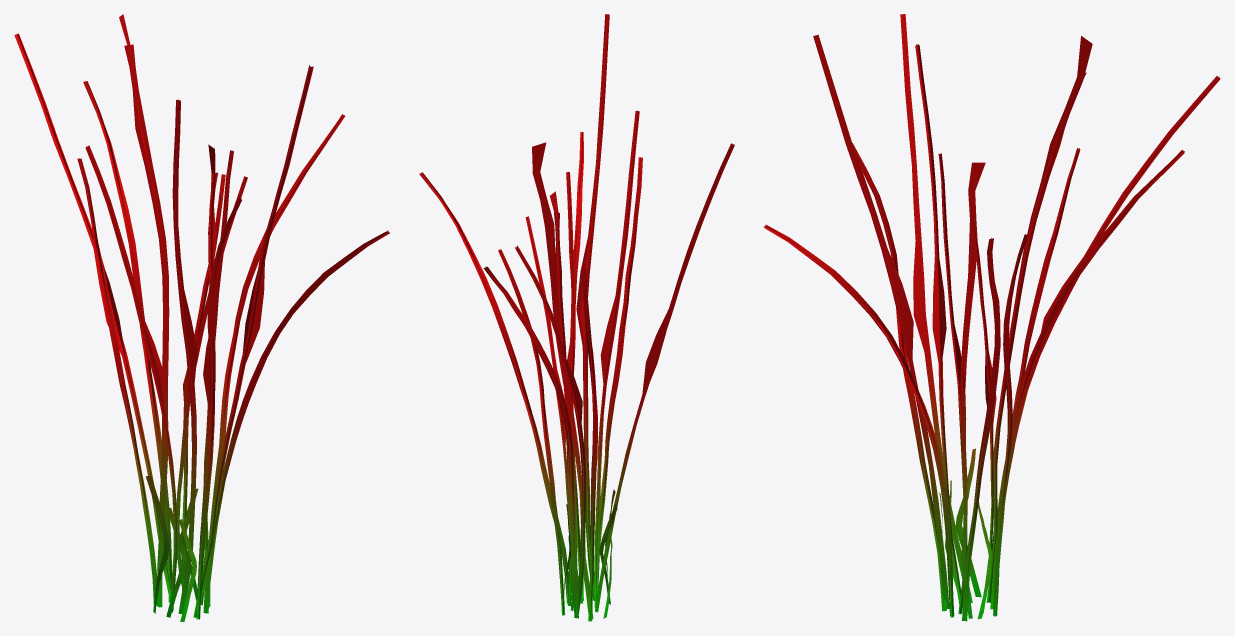
The model's file is smdrailr_Var3_LOD0.fbx.
The picture shows the model from 3 angles, left to right: view 1: azimuth 30°, elevation 25°; view 2: azimuth 150°, elevation 25°; view 3: azimuth 270°, elevation 25°; orthographic projection. The views are drawn at different scales.
Visible parts, largest first — view 1: _5c29_Var3_LOD0; view 2: _5c29_Var3_LOD0; view 3: _5c29_Var3_LOD0.
Part boxes in pixels (bbox=[...]): _5c29_Var3_LOD0: bbox=[14, 14, 389, 621]; _5c29_Var3_LOD0: bbox=[419, 14, 734, 621]; _5c29_Var3_LOD0: bbox=[763, 14, 1220, 621].
Size of the model in its own units: 23.8 by 44.04 by 30.38.
